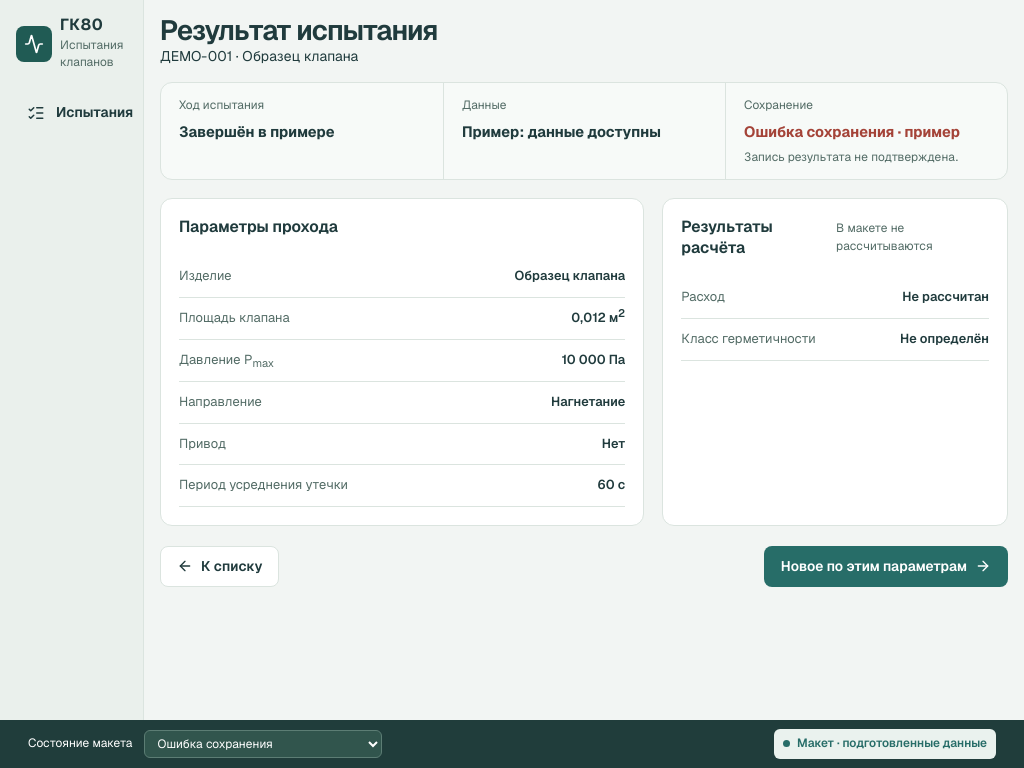
подготовленные состояния оператора › сообщает ошибку сохранения и не выдаёт её за успешную запись
Expected: the text "Ошибка сохранения · пример" is shown, [744, 121, 989, 143]
Expected: the text "Запись результата не подтверждена." is shown, [744, 149, 989, 165]
Step 1. Click the button "К списку" → click(220, 566), box [160, 546, 280, 587]
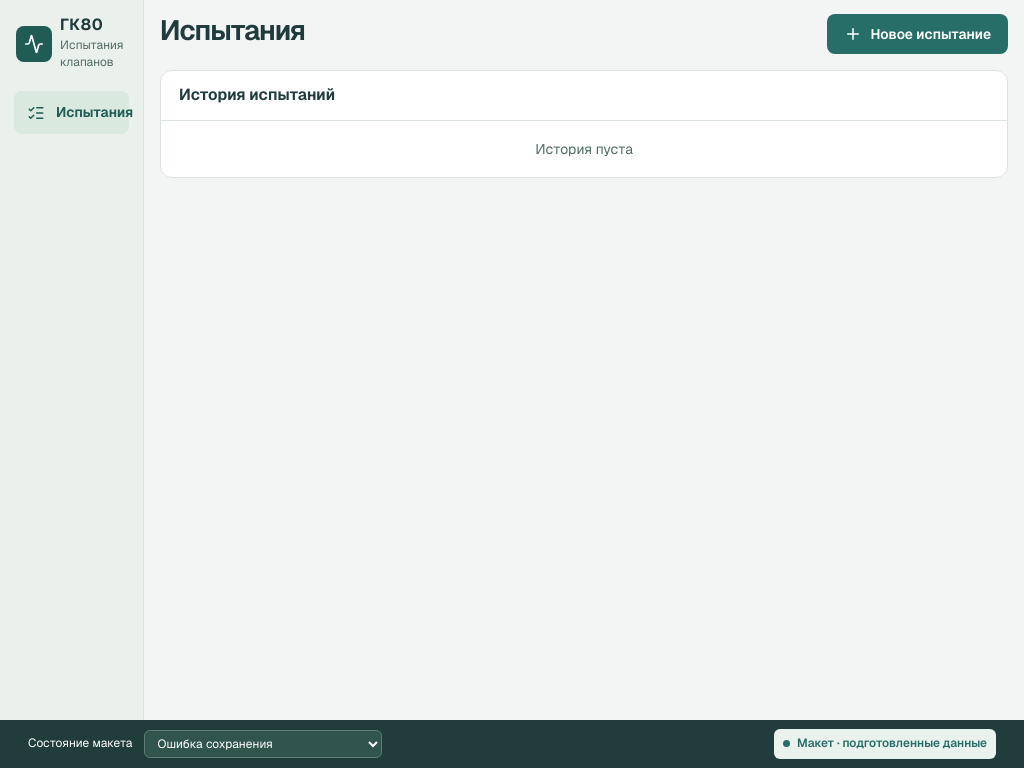
Now the text "История пуста" is shown, box [535, 139, 633, 159]
